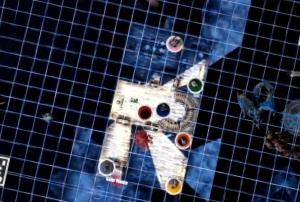blue: (152, 99, 172, 120)
green: (183, 73, 206, 95)
orange: (170, 127, 195, 152)
pink: (162, 31, 183, 52)
red: (133, 100, 154, 123)
violet: (94, 154, 116, 176)
yellow: (162, 173, 187, 197)
